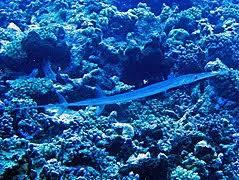Fistularia commersonii: (43, 70, 232, 103)
